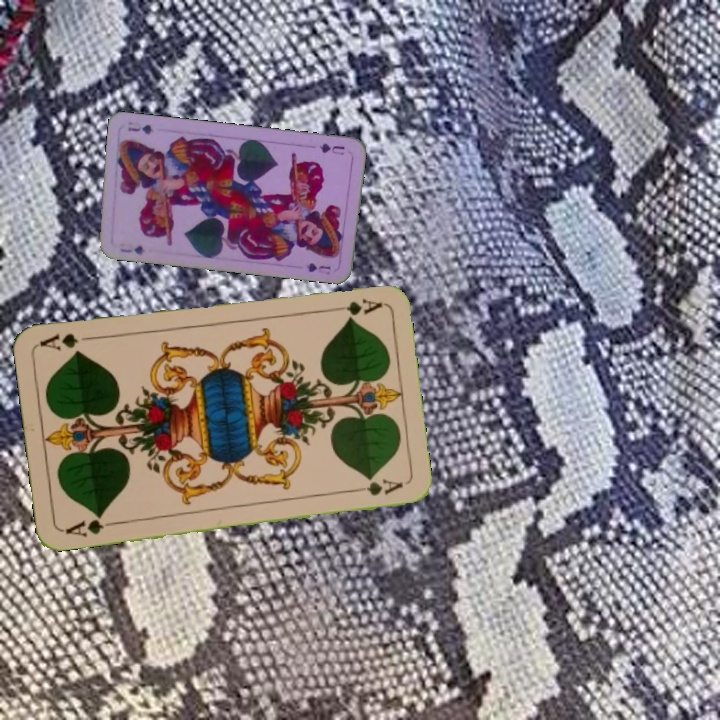GA: (61, 510, 119, 540), (325, 294, 384, 319)
GU: (315, 139, 347, 158), (116, 242, 147, 257)
